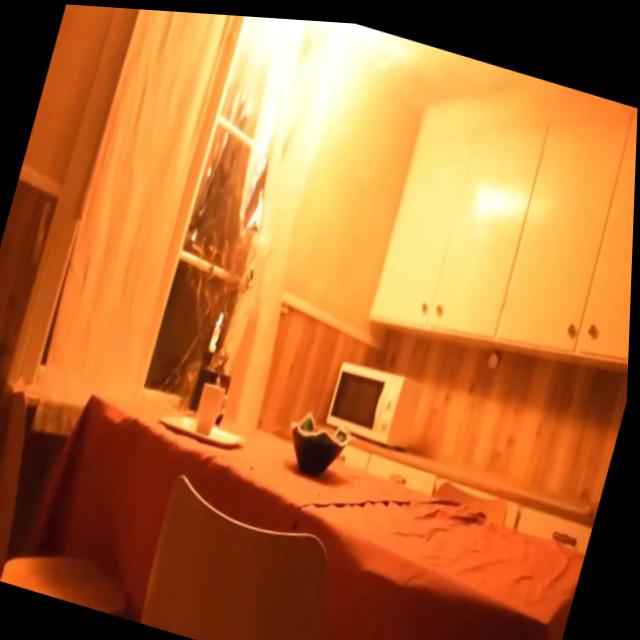fire: (202, 11, 426, 224), (216, 302, 229, 322)
